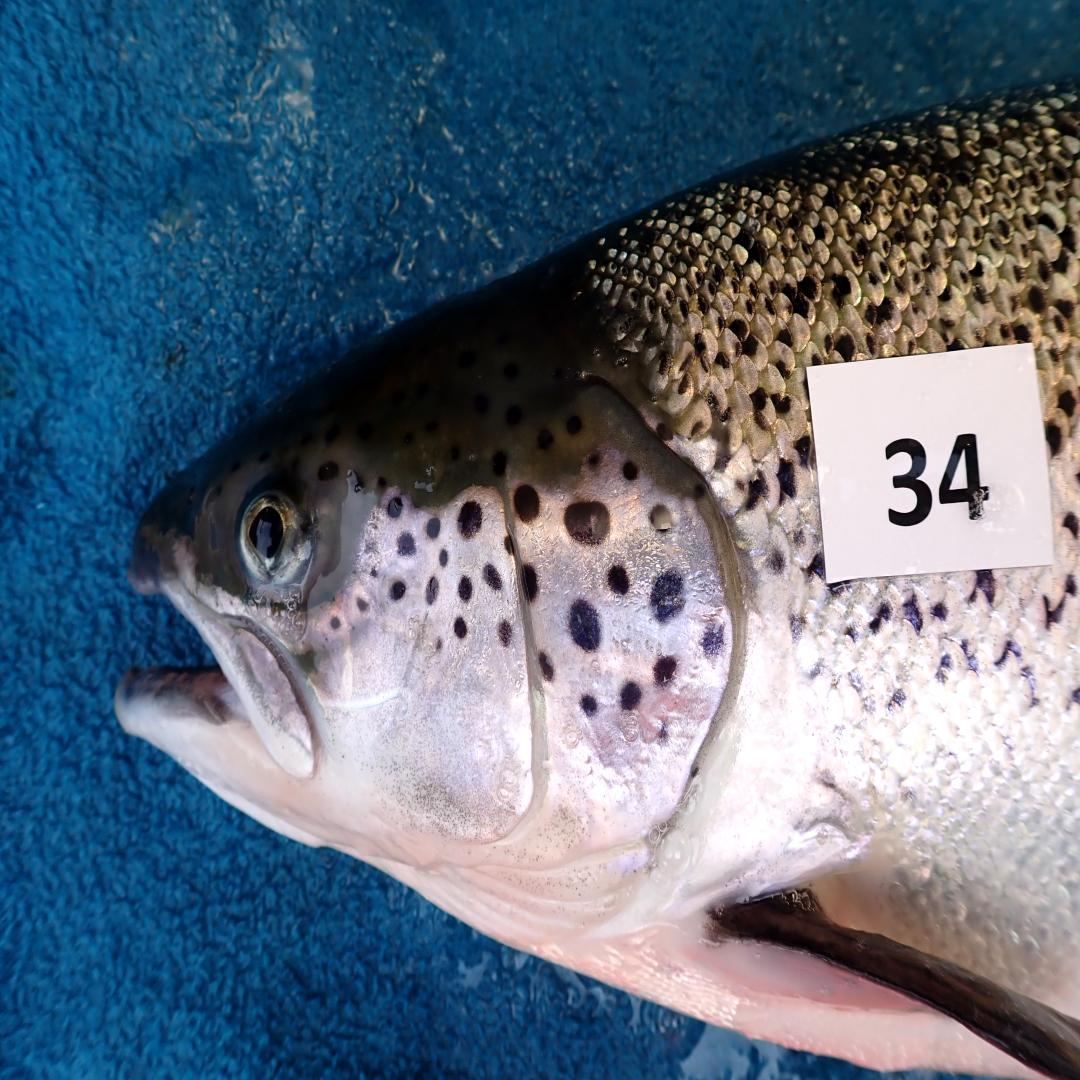roi: (316, 442, 737, 949)
